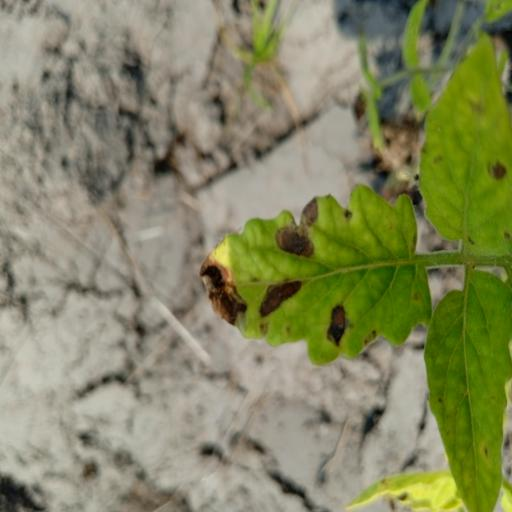Tomato_Brown_Spots: (196, 180, 442, 370), (418, 10, 512, 255), (421, 263, 512, 512)
